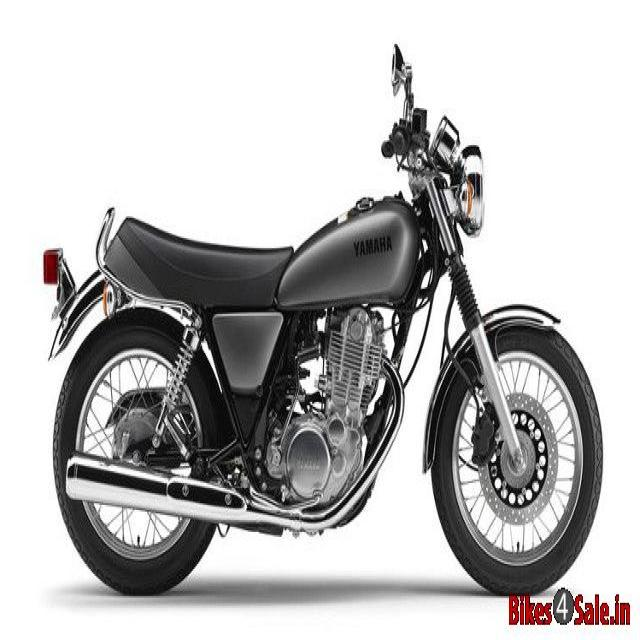Bike: (40, 22, 605, 593)
